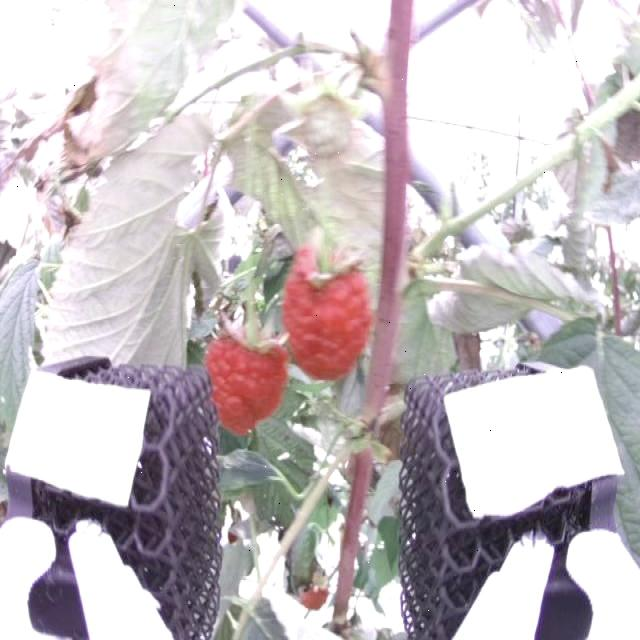Riped berries: (282, 239, 375, 384), (202, 321, 290, 437)
